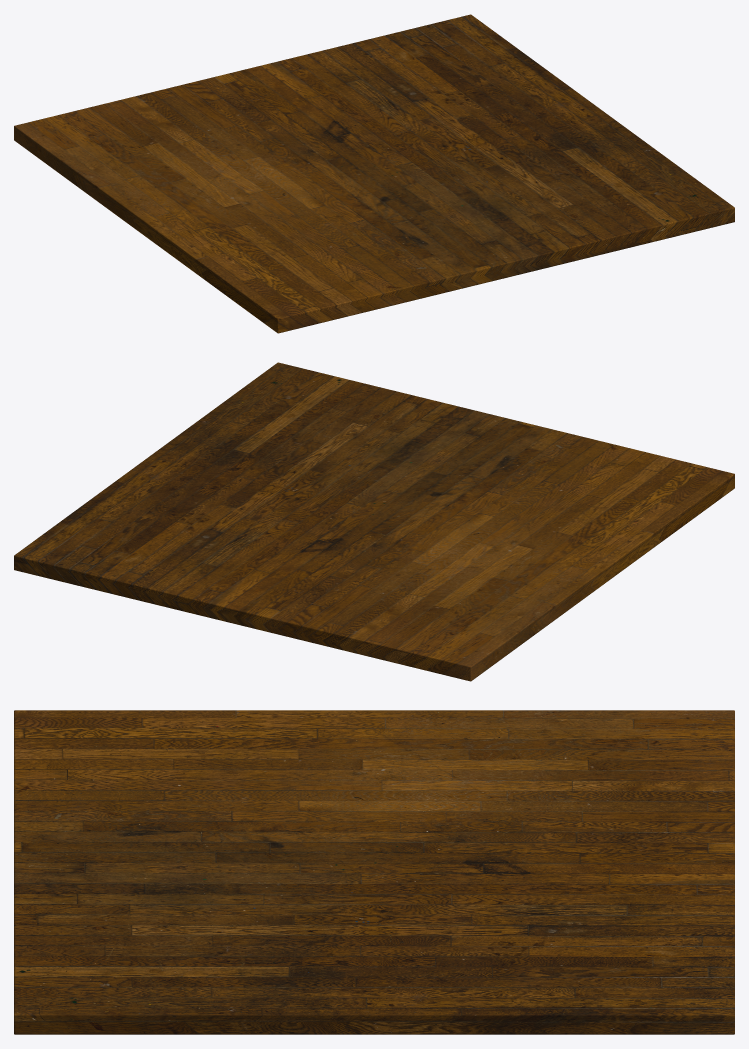
Rendered from floor.obj.
3 renders of one model, top to bottom at view 1: azimuth 30°, elevation 25°; view 2: azimuth 150°, elevation 25°; view 3: azimuth 270°, elevation 25°, orthographic. The views are drawn at different scales.
Parts seen in each view (by area): view 1: floor; view 2: floor; view 3: floor.
Part boxes in pixels (x1=…): floor: x1=14, y1=14, x2=734, y2=333; floor: x1=14, y1=362, x2=734, y2=681; floor: x1=14, y1=710, x2=734, y2=1034.
Size of the model in its own units: 2 by 0.0622 by 2.
